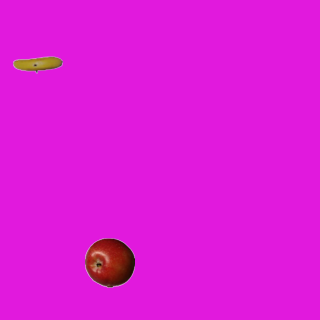Apple Braeburn: (84, 237, 134, 287)
Banana: (12, 39, 62, 89)
